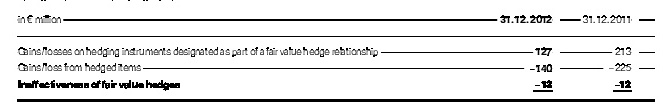table: (0, 0, 665, 112)
